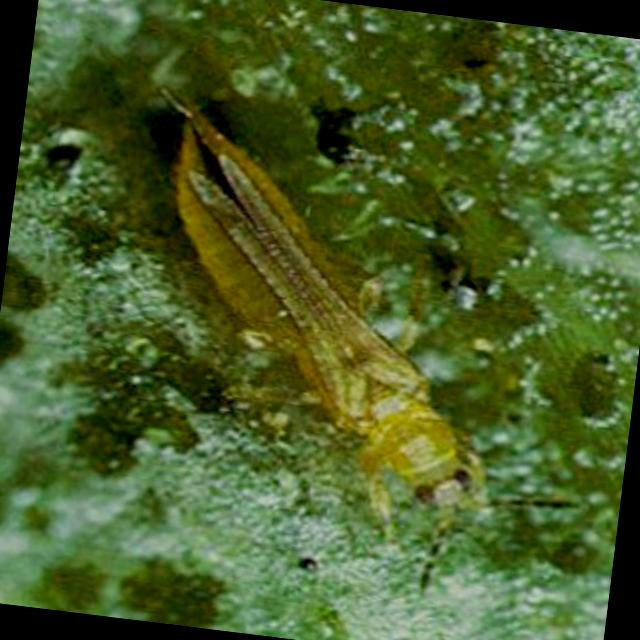melon thrips: (22, 57, 614, 616)
